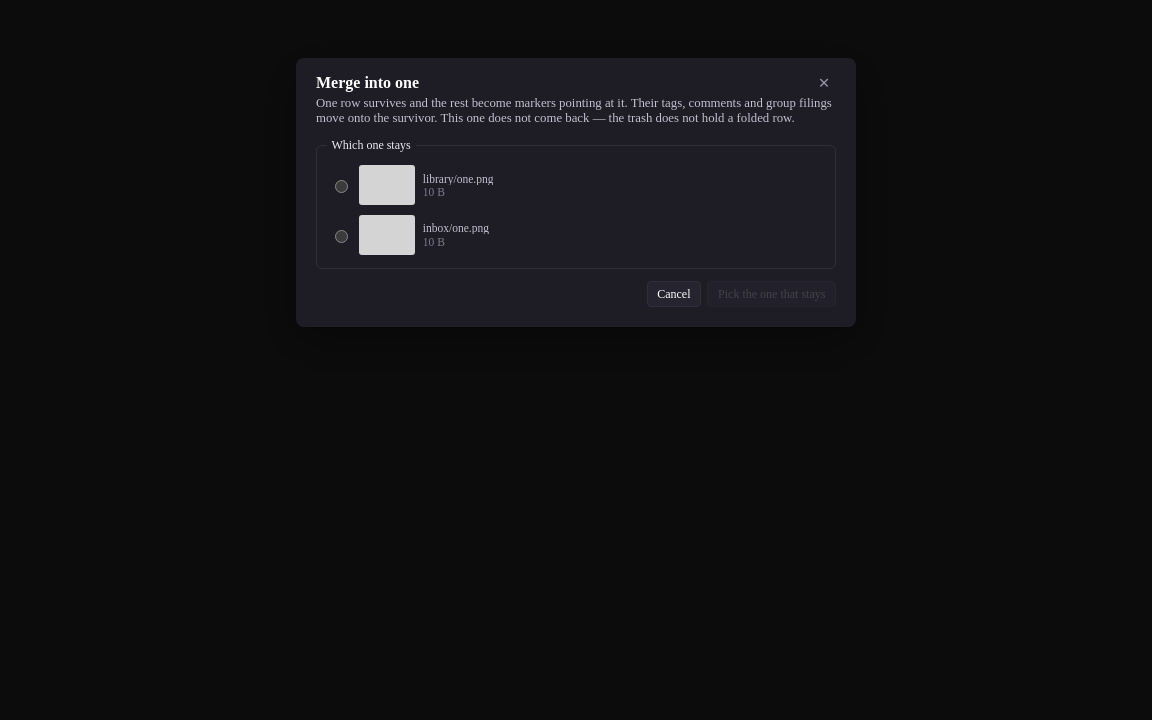
Test: MergeDialog — the way through › shows the counts and the warning the preview came back with
The width and height of the screenshot is (1152, 720).
Click the radio button labelled "library/one.png 10 B": (341, 187) [335, 180, 348, 193]
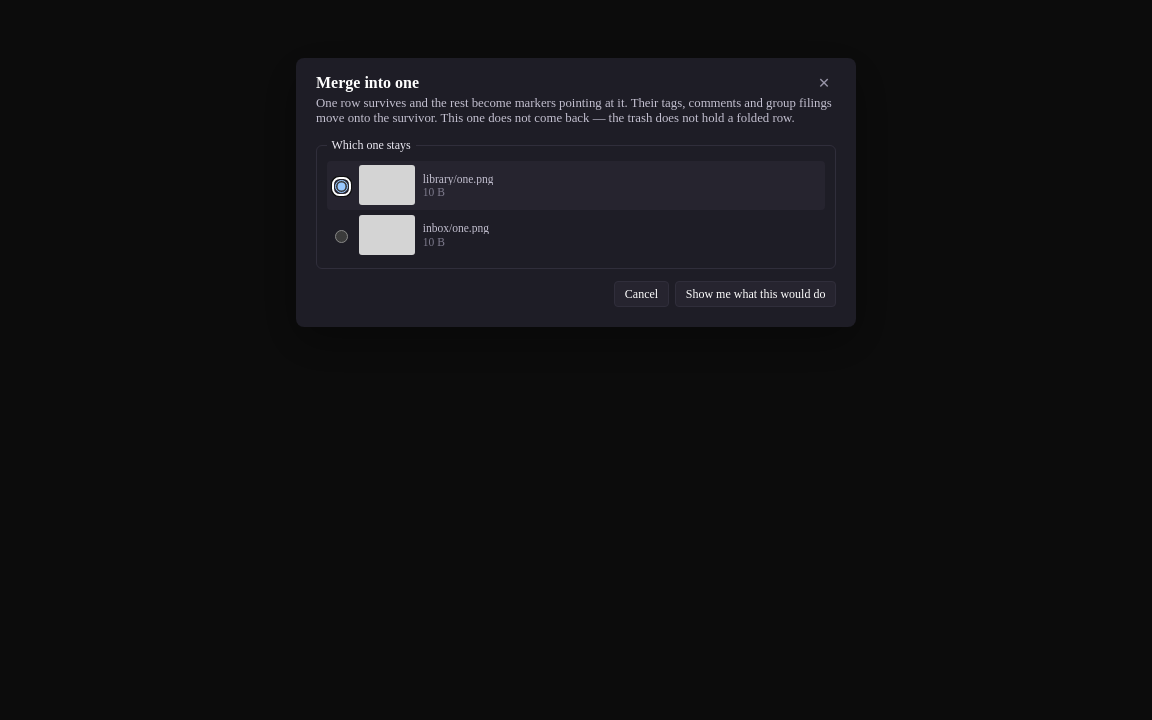
Click the button "Show me what this would do": (756, 294) [675, 281, 836, 307]
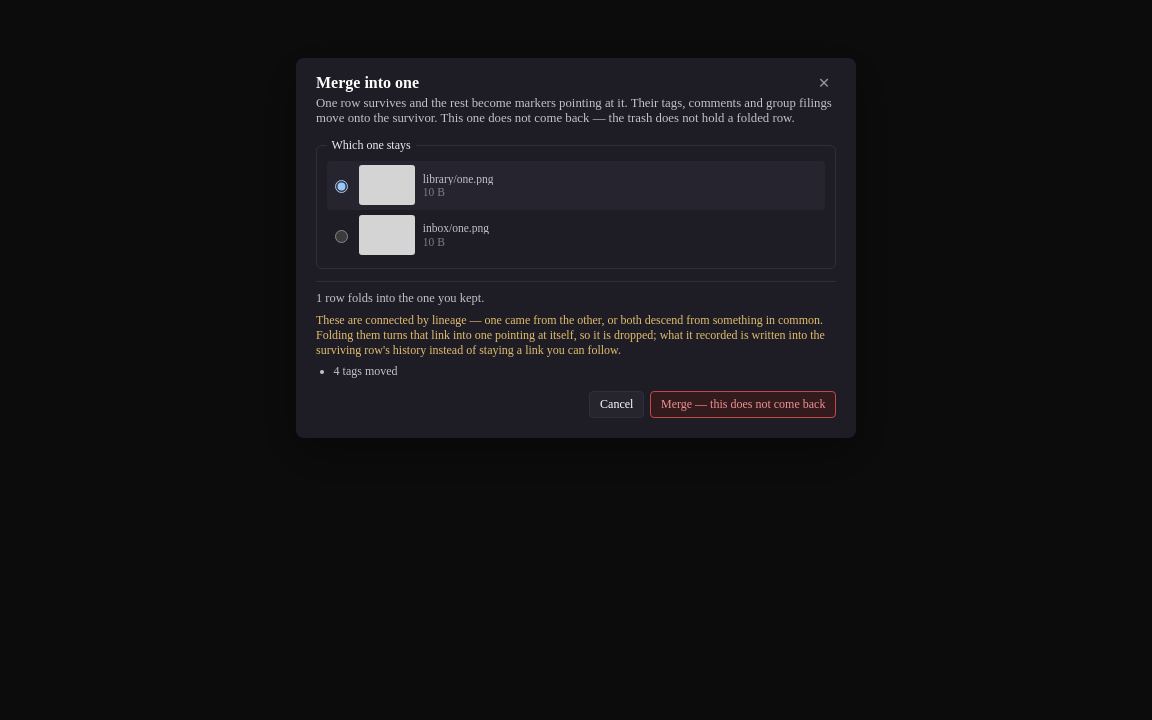
Check: the text "1 row folds into the one you kept." is shown, box [316, 291, 484, 305]
Check: the list item "4 tags moved" is shown, box [334, 364, 398, 378]
Check: the text "connected by lineage" is shown, box [316, 313, 825, 357]
